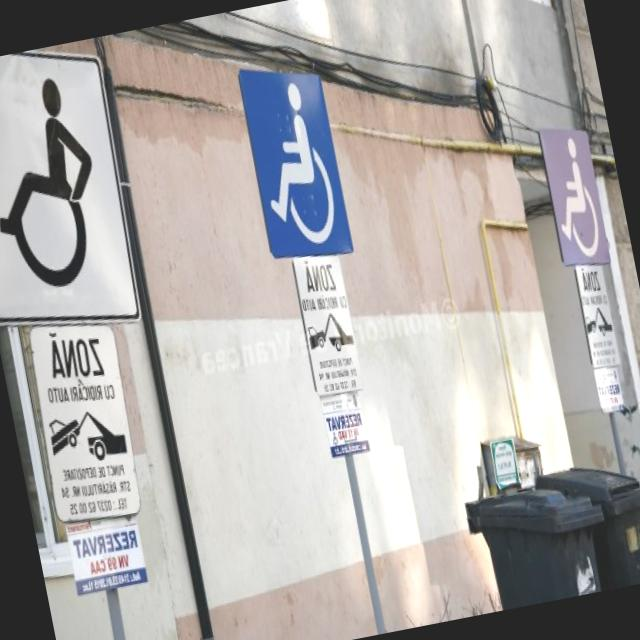symbol_of_access: (0, 60, 139, 319), (240, 72, 356, 264), (540, 135, 609, 268)
